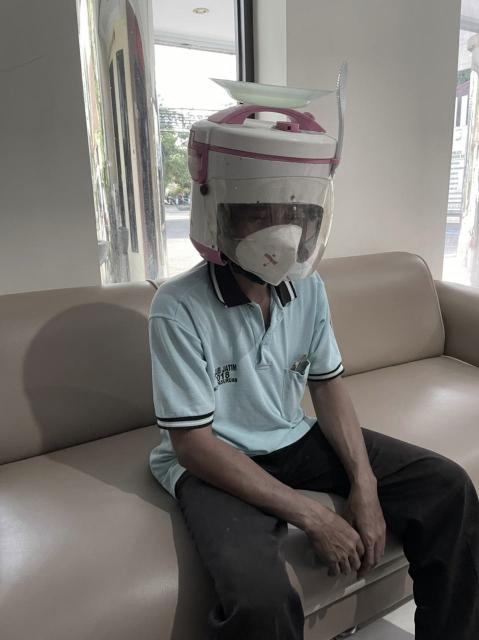helm: (187, 74, 350, 297)
